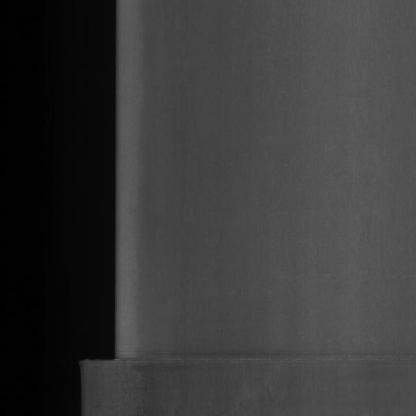welding_line: (68, 336, 414, 381)
